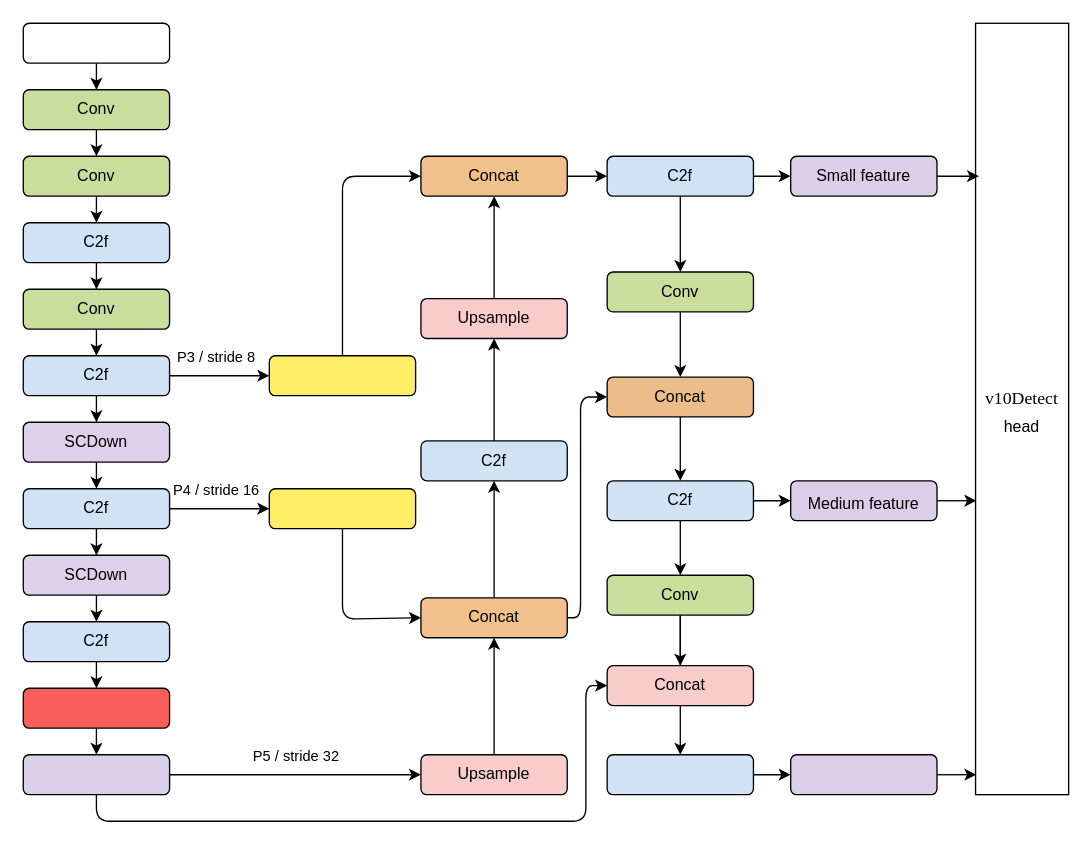
The diagram is 1092 pixels wide and 855 high, and some of its shapes have lost their labels. The shapes that lost their labels are listed below. From the top down, each one's centre as x and y in pixels, then its label:
At point 96,42: "Input pseudo-color (H x W x 3)".
At point 342,375: "TSGM-P3".
At point 342,508: "TSGM-P4".
At point 96,707: "SPPF".
At point 96,774: "PSA".
At point 679,774: "C2fCIB".
At point 863,774: "Large feature".
